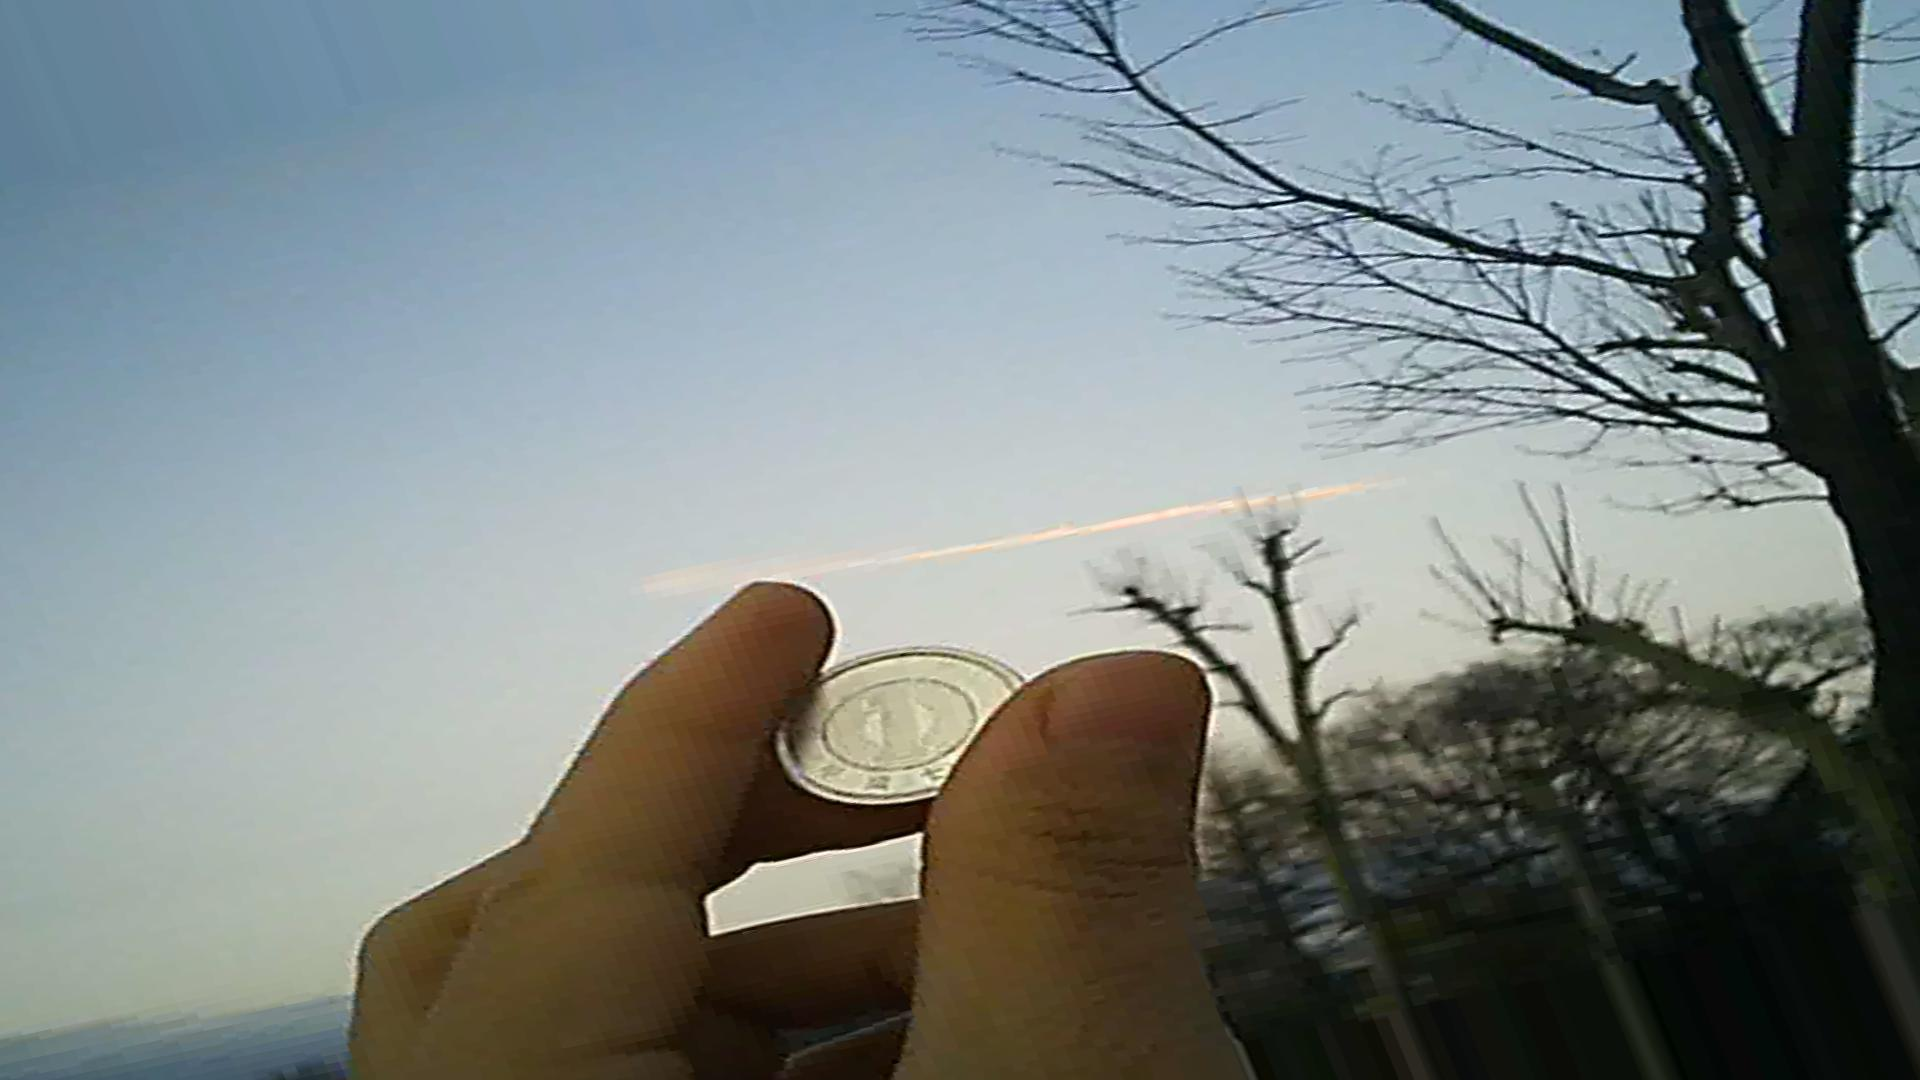1 Yen: (777, 649, 1036, 795)
